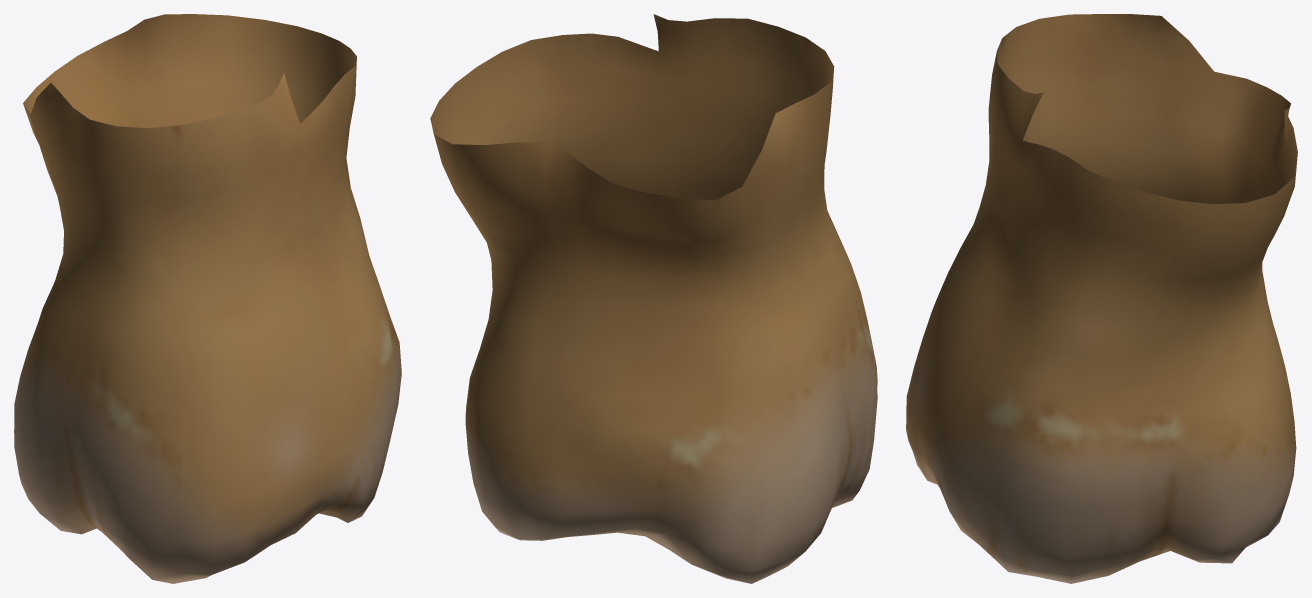
File: tooth-48.glb
3 views of the same model, side by side, from view 1: azimuth 30°, elevation 25°; view 2: azimuth 150°, elevation 25°; view 3: azimuth 270°, elevation 25° (orthographic). The views are drawn at different scales.
Visible parts, largest first — view 1: teeth_1; view 2: teeth_1; view 3: teeth_1.
Boxes of the visible parts, x1,y1,x2,y2 form: teeth_1: (14, 14, 401, 583); teeth_1: (430, 14, 877, 583); teeth_1: (906, 14, 1297, 583).
Size of the model in its own units: 0.0284 by 0.0375 by 0.0288.
1 material, 1 textured.
